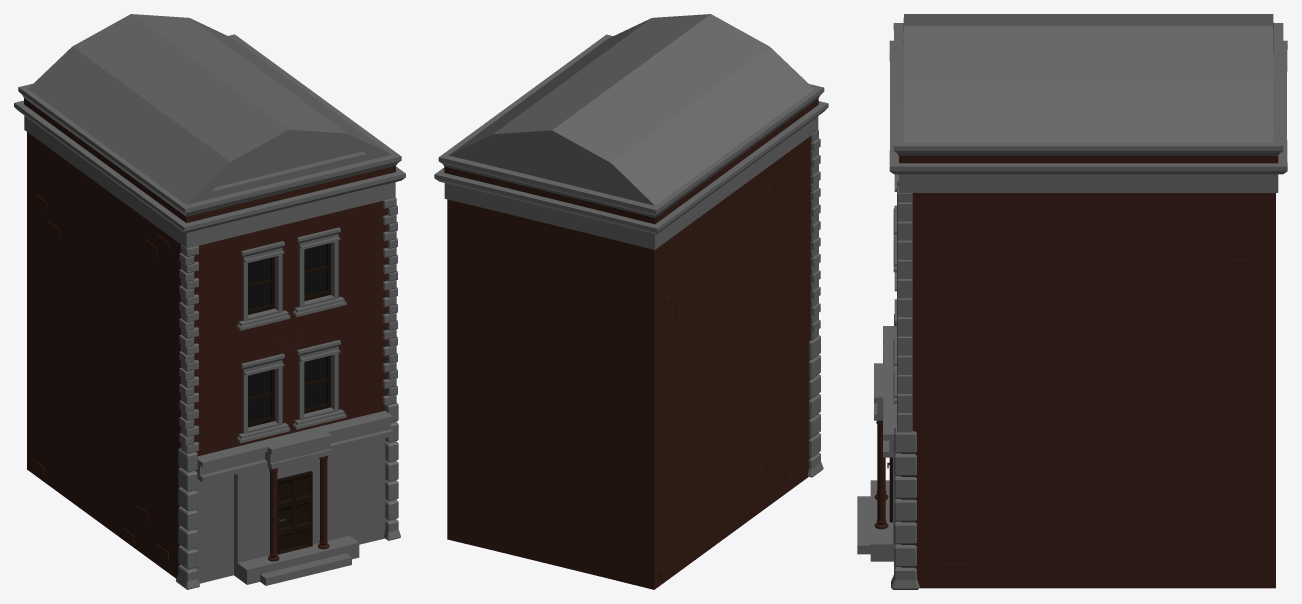
The model's file is Building3_Small.fbx.
3 views of the same model, side by side, from view 1: azimuth 30°, elevation 25°; view 2: azimuth 150°, elevation 25°; view 3: azimuth 270°, elevation 25° (orthographic). The views are drawn at different scales.
Parts seen in each view (by area): view 1: Building3_Small; view 2: Building3_Small; view 3: Building3_Small.
Part boxes in pixels (box(x1,y1,x2,y2)): Building3_Small: box(14, 14, 405, 589); Building3_Small: box(434, 14, 828, 589); Building3_Small: box(857, 14, 1287, 589).
Bounding box in the file's own units: 3.05 × 5.68 × 4.4.
